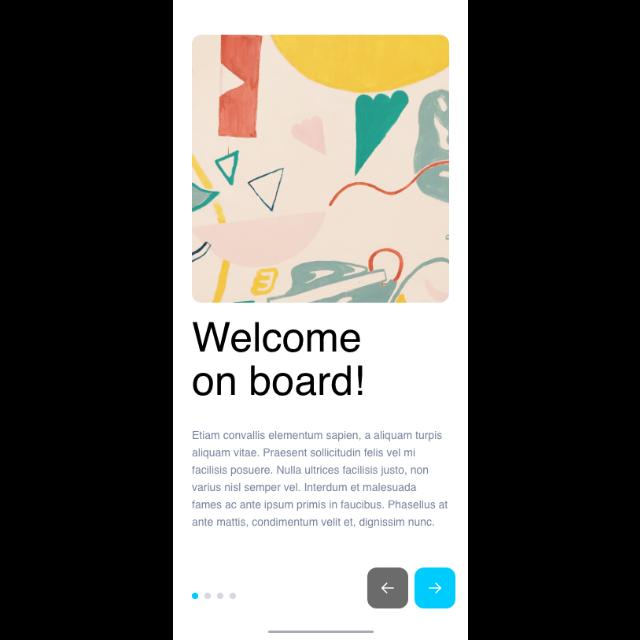icon: (368, 568, 408, 608), (414, 568, 454, 608)
image: (192, 35, 448, 303)
pageindicator: (192, 592, 236, 600)
text: (191, 431, 447, 529), (192, 322, 362, 396)
